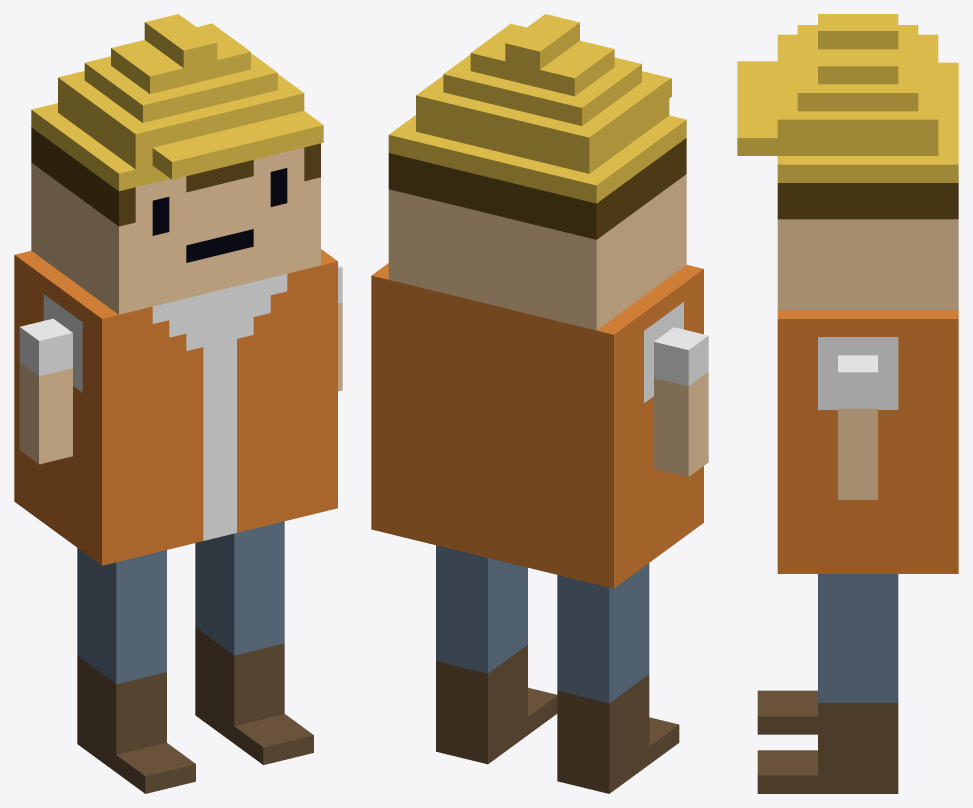
File: Player20.obj
3 views of the same model, side by side, from view 1: azimuth 30°, elevation 25°; view 2: azimuth 150°, elevation 25°; view 3: azimuth 270°, elevation 25° (orthographic). The views are drawn at different scales.
Visible parts, largest first — view 1: Player20; view 2: Player20; view 3: Player20.
Boxes of the visible parts, box(x1,y1,x2,y2) form: Player20: box(14, 14, 342, 793); Player20: box(371, 14, 708, 793); Player20: box(737, 14, 958, 793).
Bounding box in the file's own units: 18 × 40 × 11.
